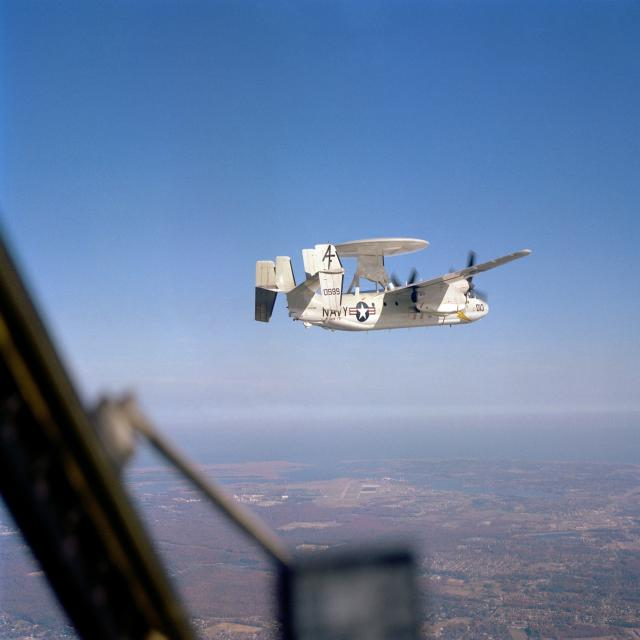MIL_Plane: (251, 238, 532, 334)
